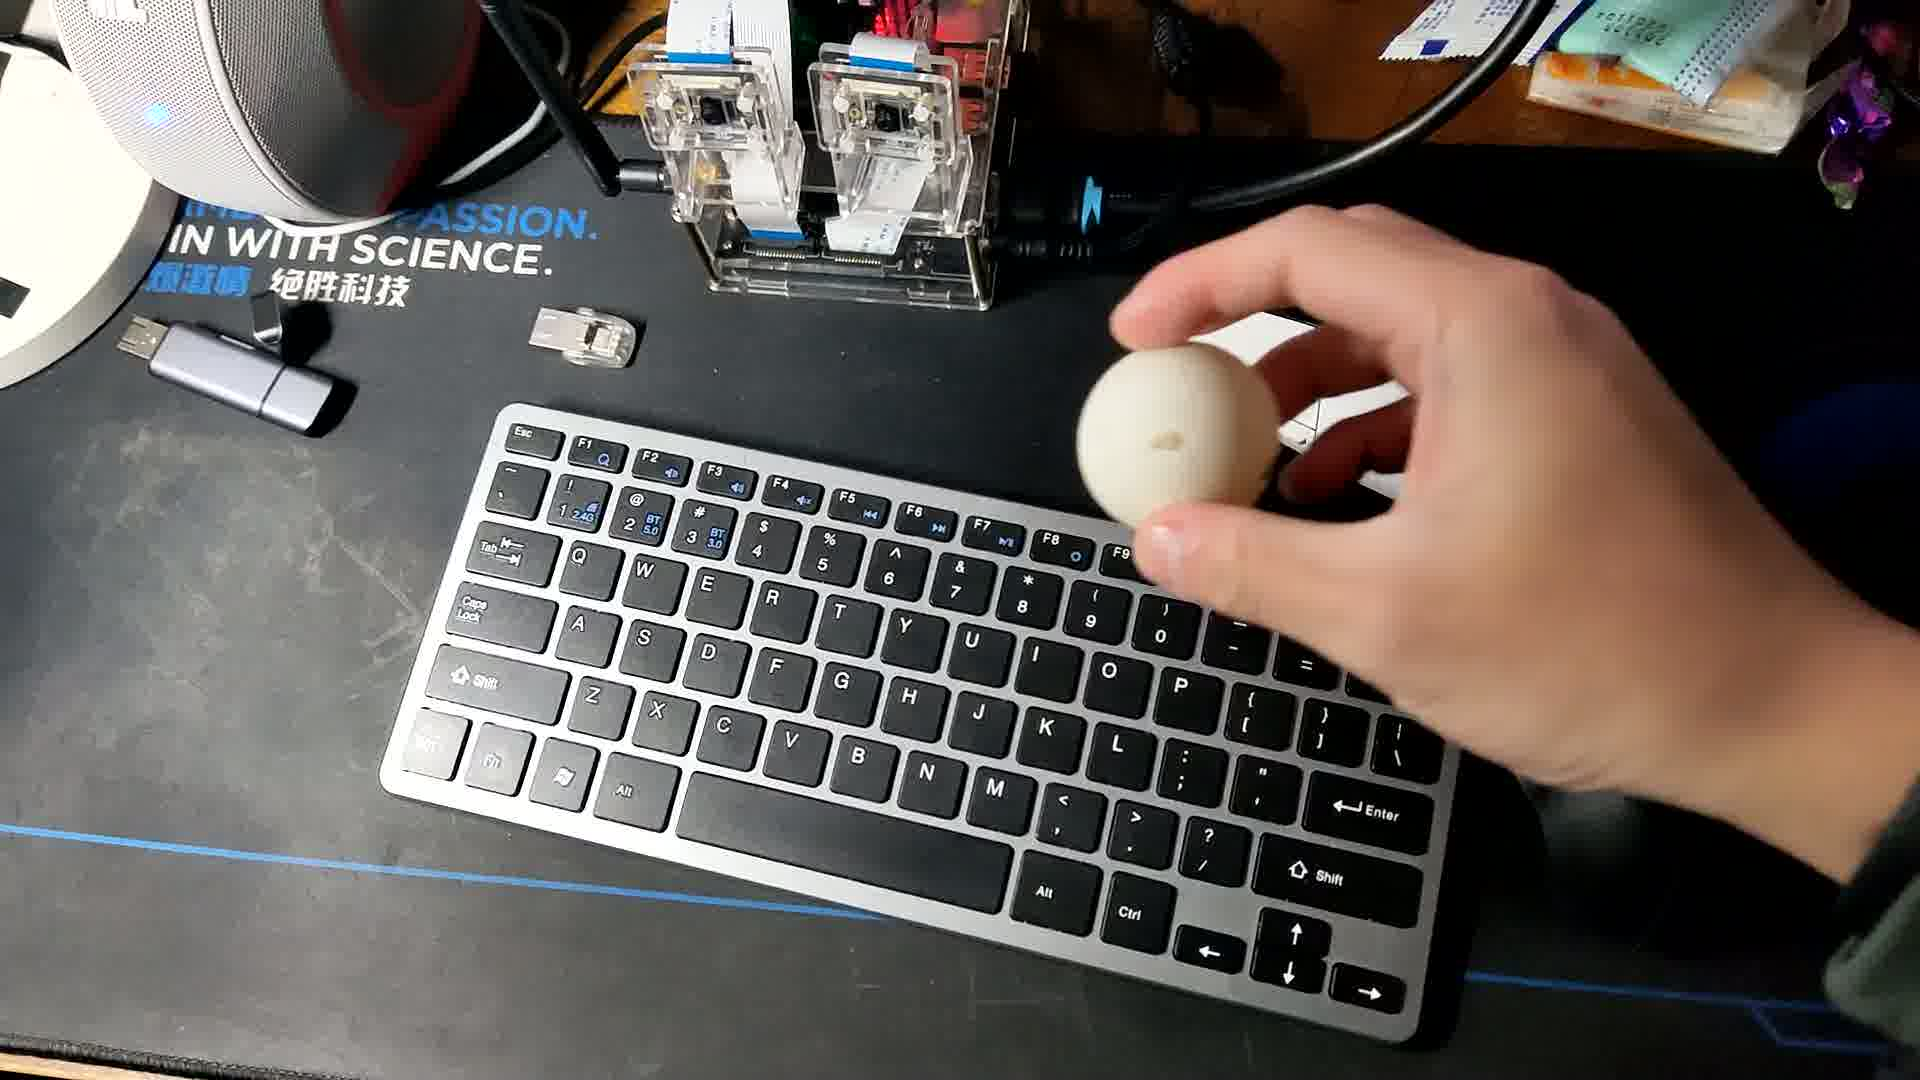Ball: (1069, 344, 1284, 550)
